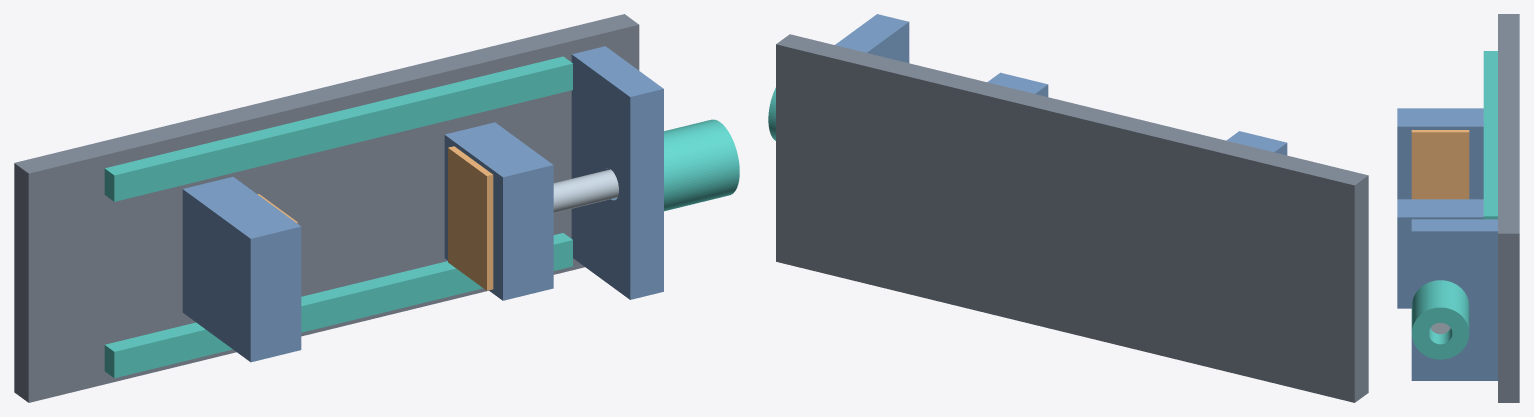
File: assembly.glb
3 views of the same model, side by side, from view 1: azimuth 30°, elevation 25°; view 2: azimuth 150°, elevation 25°; view 3: azimuth 270°, elevation 25° (orthographic). The views are drawn at different scales.
Parts seen in each view (by area): view 1: base, actuator_support, fixed_jaw, rail_right, moving_jaw, rail_left, actuator_body, moving_pad, rod; view 2: base, actuator_support, fixed_jaw, moving_jaw; view 3: actuator_support, base, fixed_pad, fixed_jaw, actuator_body, moving_jaw, rail_right, rod.
Boxes of the visible parts, box(x1,y1,x2,y2) form: base: box(14, 14, 639, 402); actuator_support: box(571, 46, 663, 299); fixed_jaw: box(182, 177, 301, 362); rail_right: box(104, 56, 572, 201); moving_jaw: box(444, 122, 553, 300); rail_left: box(104, 233, 572, 378); actuator_body: box(664, 119, 739, 211); moving_pad: box(448, 146, 493, 290); rod: box(553, 169, 618, 212); base: box(776, 34, 1368, 402); actuator_support: box(835, 14, 909, 62); fixed_jaw: box(1226, 131, 1287, 155); moving_jaw: box(987, 72, 1048, 96); actuator_support: box(1411, 219, 1497, 380); base: box(1498, 14, 1519, 402); fixed_pad: box(1411, 130, 1469, 199); fixed_jaw: box(1397, 108, 1483, 199); actuator_body: box(1411, 280, 1469, 359); moving_jaw: box(1397, 199, 1483, 308); rail_right: box(1483, 51, 1497, 219); rod: box(1430, 323, 1450, 334).
Size of the model in its own units: 0.1548 by 0.052 by 0.034.
